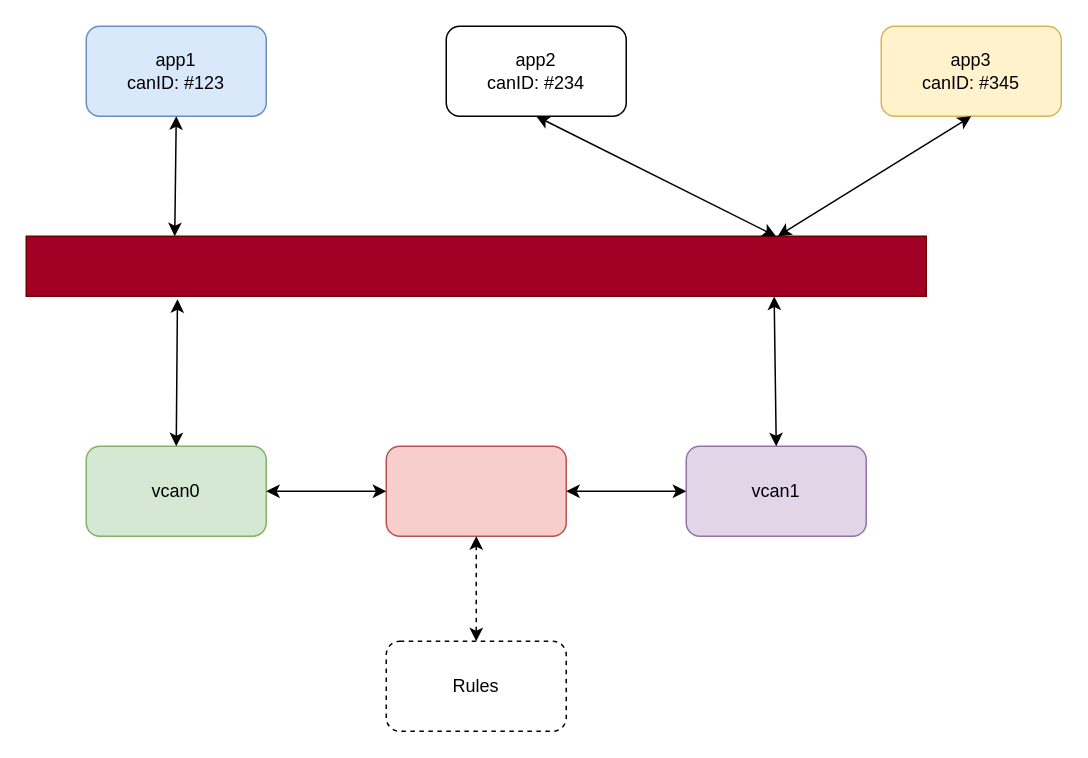
The diagram is 1088 pixels wide and 758 high, and some of its shapes have lost their labels. The box of each missing label's shape, as (x1, y1, x2, y2) in pixels:
CAN gateway: (385, 445, 566, 536)
Linux Socket Layer: (25, 235, 926, 296)
